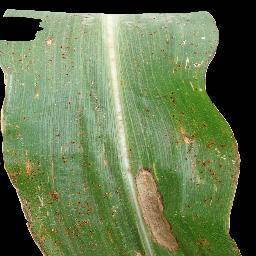Corn_Common_Rust: (0, 6, 99, 256), (168, 44, 243, 163), (185, 163, 244, 256), (127, 163, 184, 256), (122, 9, 224, 44), (99, 185, 128, 256), (100, 132, 114, 185), (139, 79, 168, 103), (139, 103, 156, 118)
